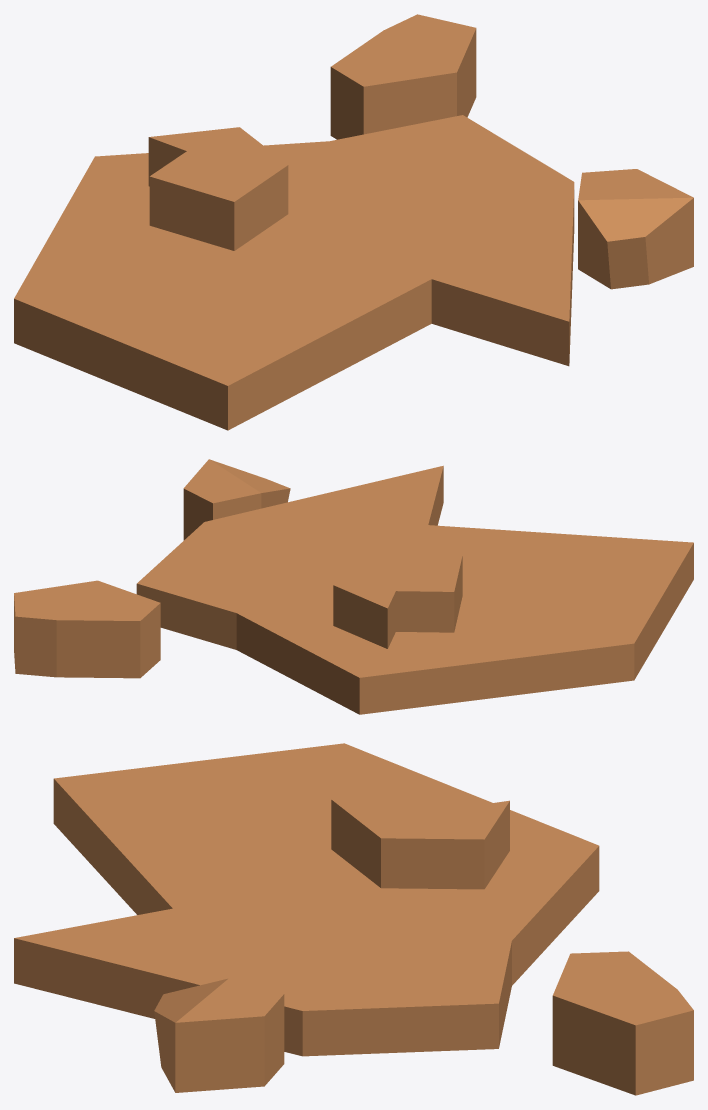
The model's file is SandRocks14_LOD1.fbx.
The picture shows the model from 3 angles, top to bottom: view 1: azimuth 30°, elevation 25°; view 2: azimuth 150°, elevation 25°; view 3: azimuth 270°, elevation 25°; orthographic projection. The views are drawn at different scales.
Visible parts, largest first — view 1: Plane.166; view 2: Plane.166; view 3: Plane.166.
Boxes of the visible parts, left/top/right/bottom form: Plane.166: left=14, top=14, right=693, bottom=430; Plane.166: left=14, top=459, right=693, bottom=714; Plane.166: left=14, top=743, right=693, bottom=1095.
Size of the model in its own units: 49.81 by 8.02 by 47.64.
